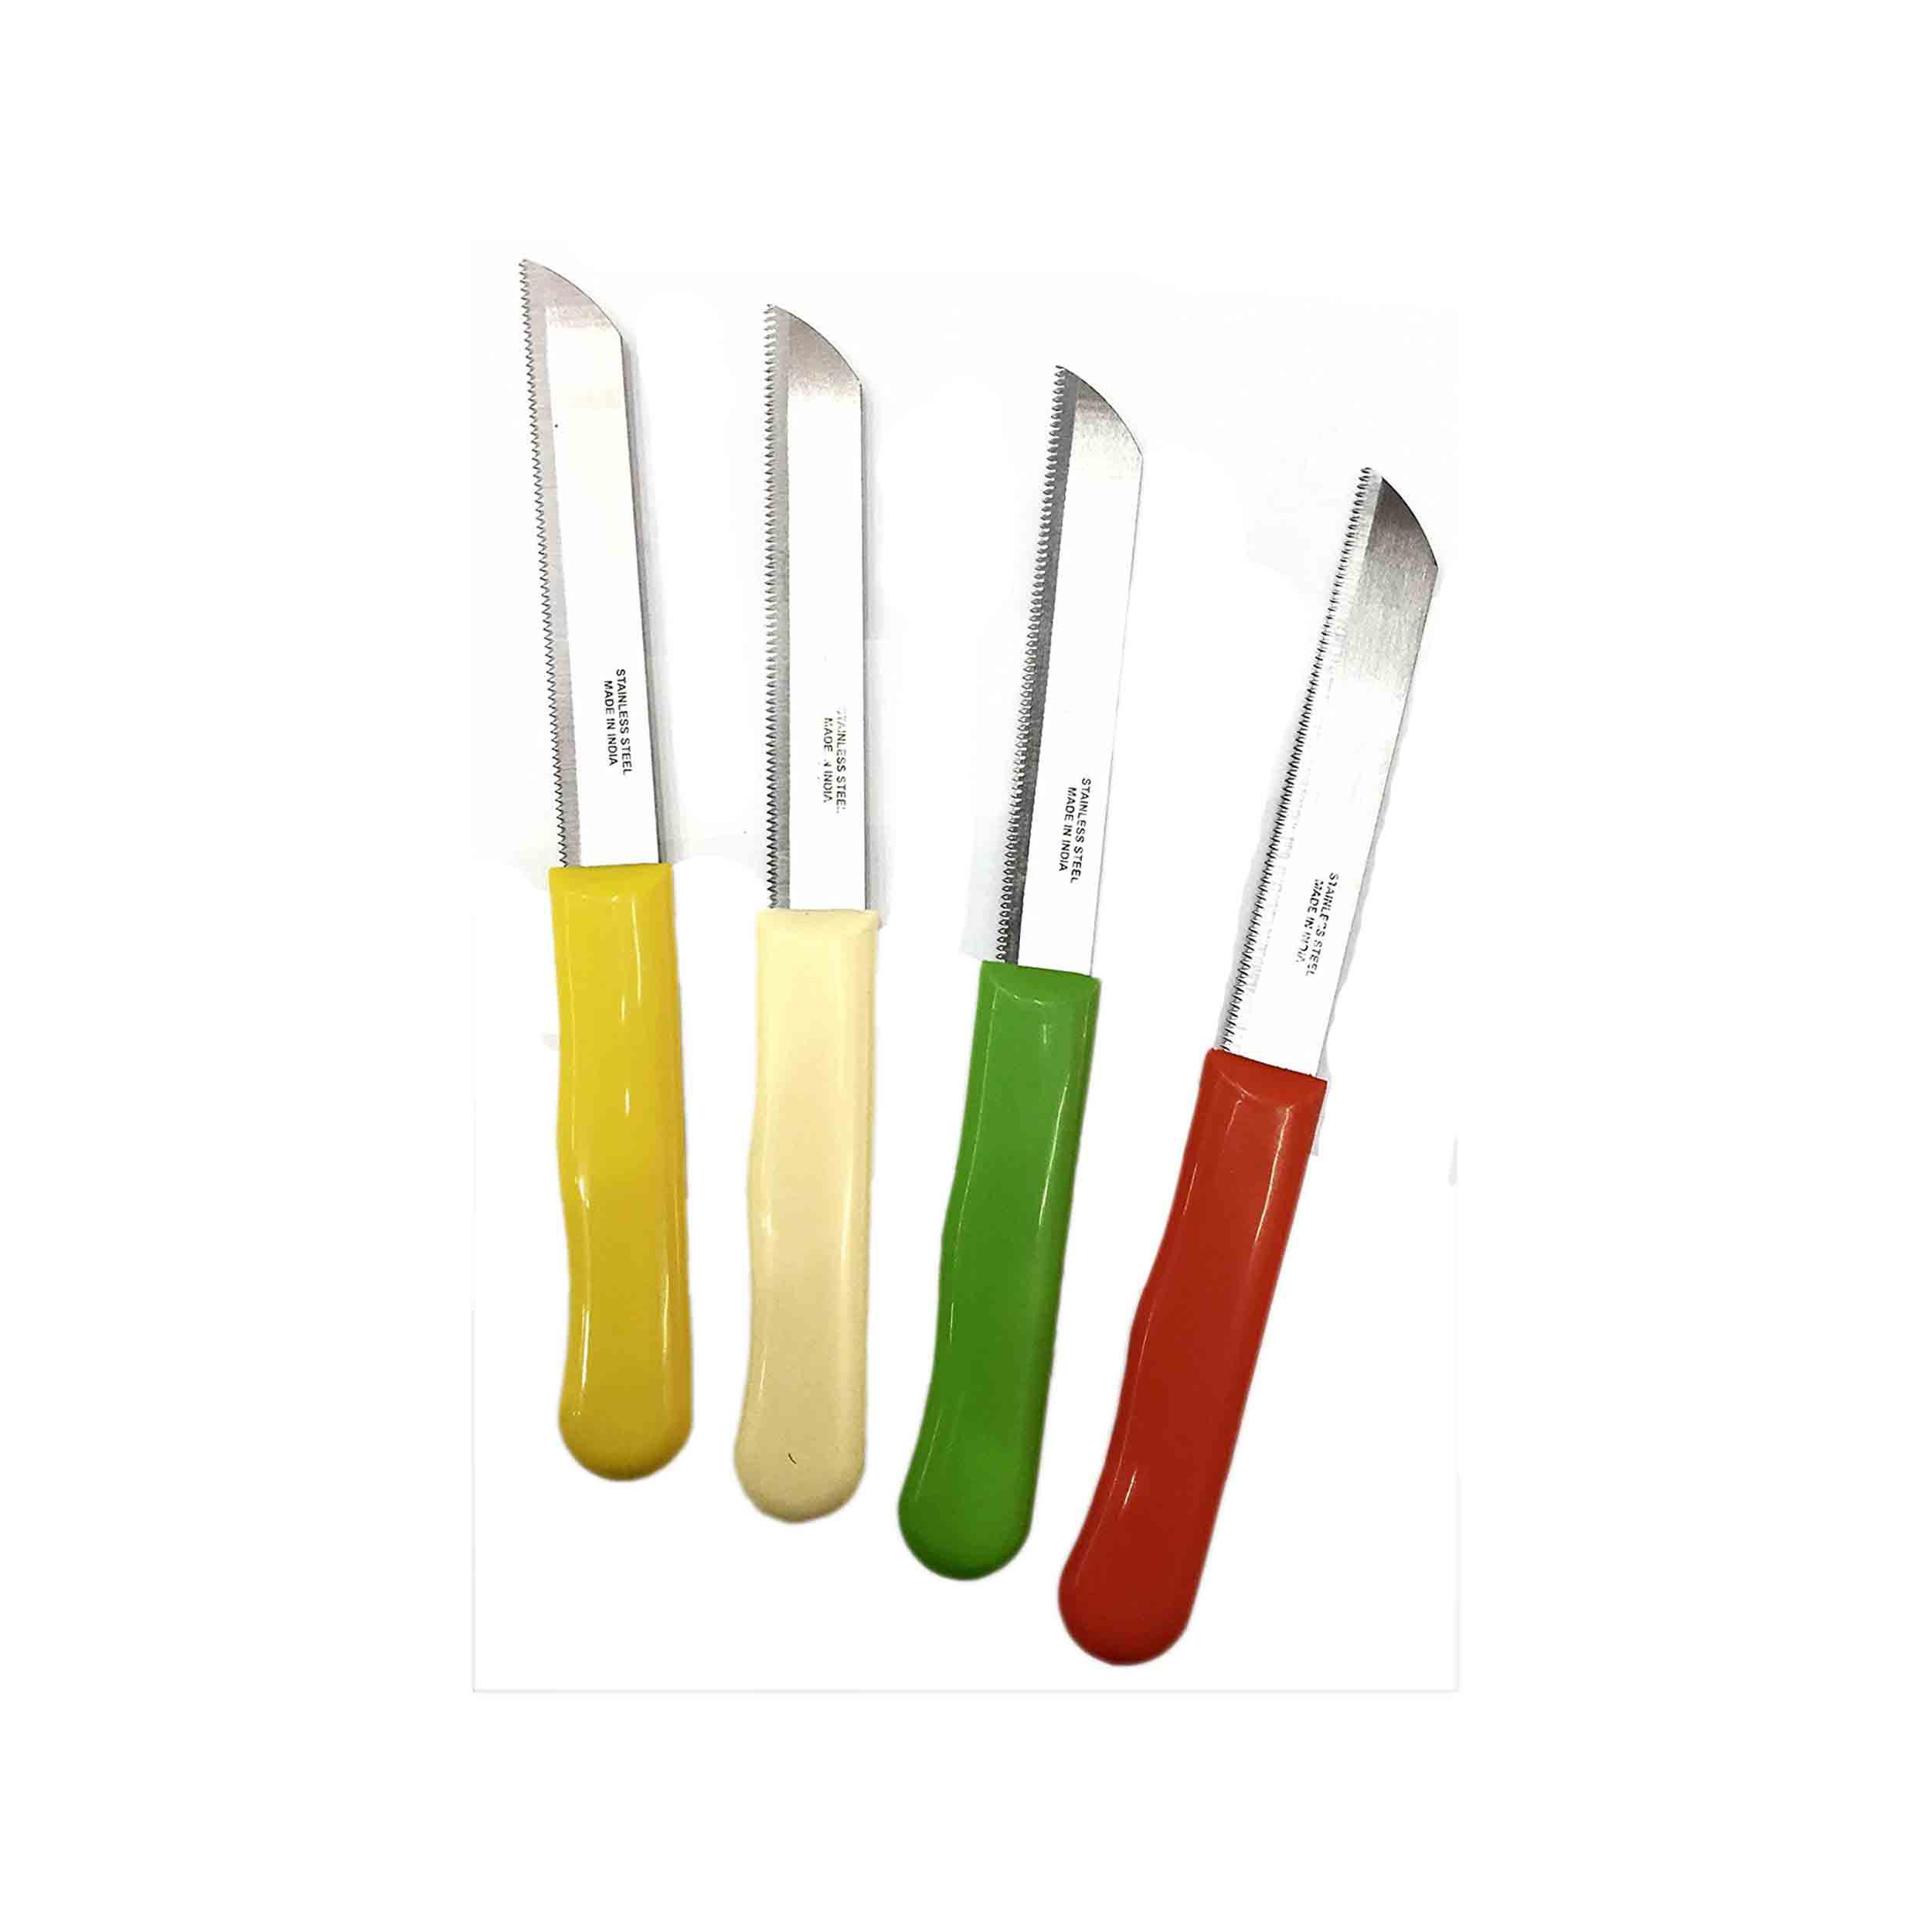knife: (1069, 460, 1444, 1672), (895, 372, 1139, 1587), (506, 262, 702, 1477), (736, 306, 878, 1545)
